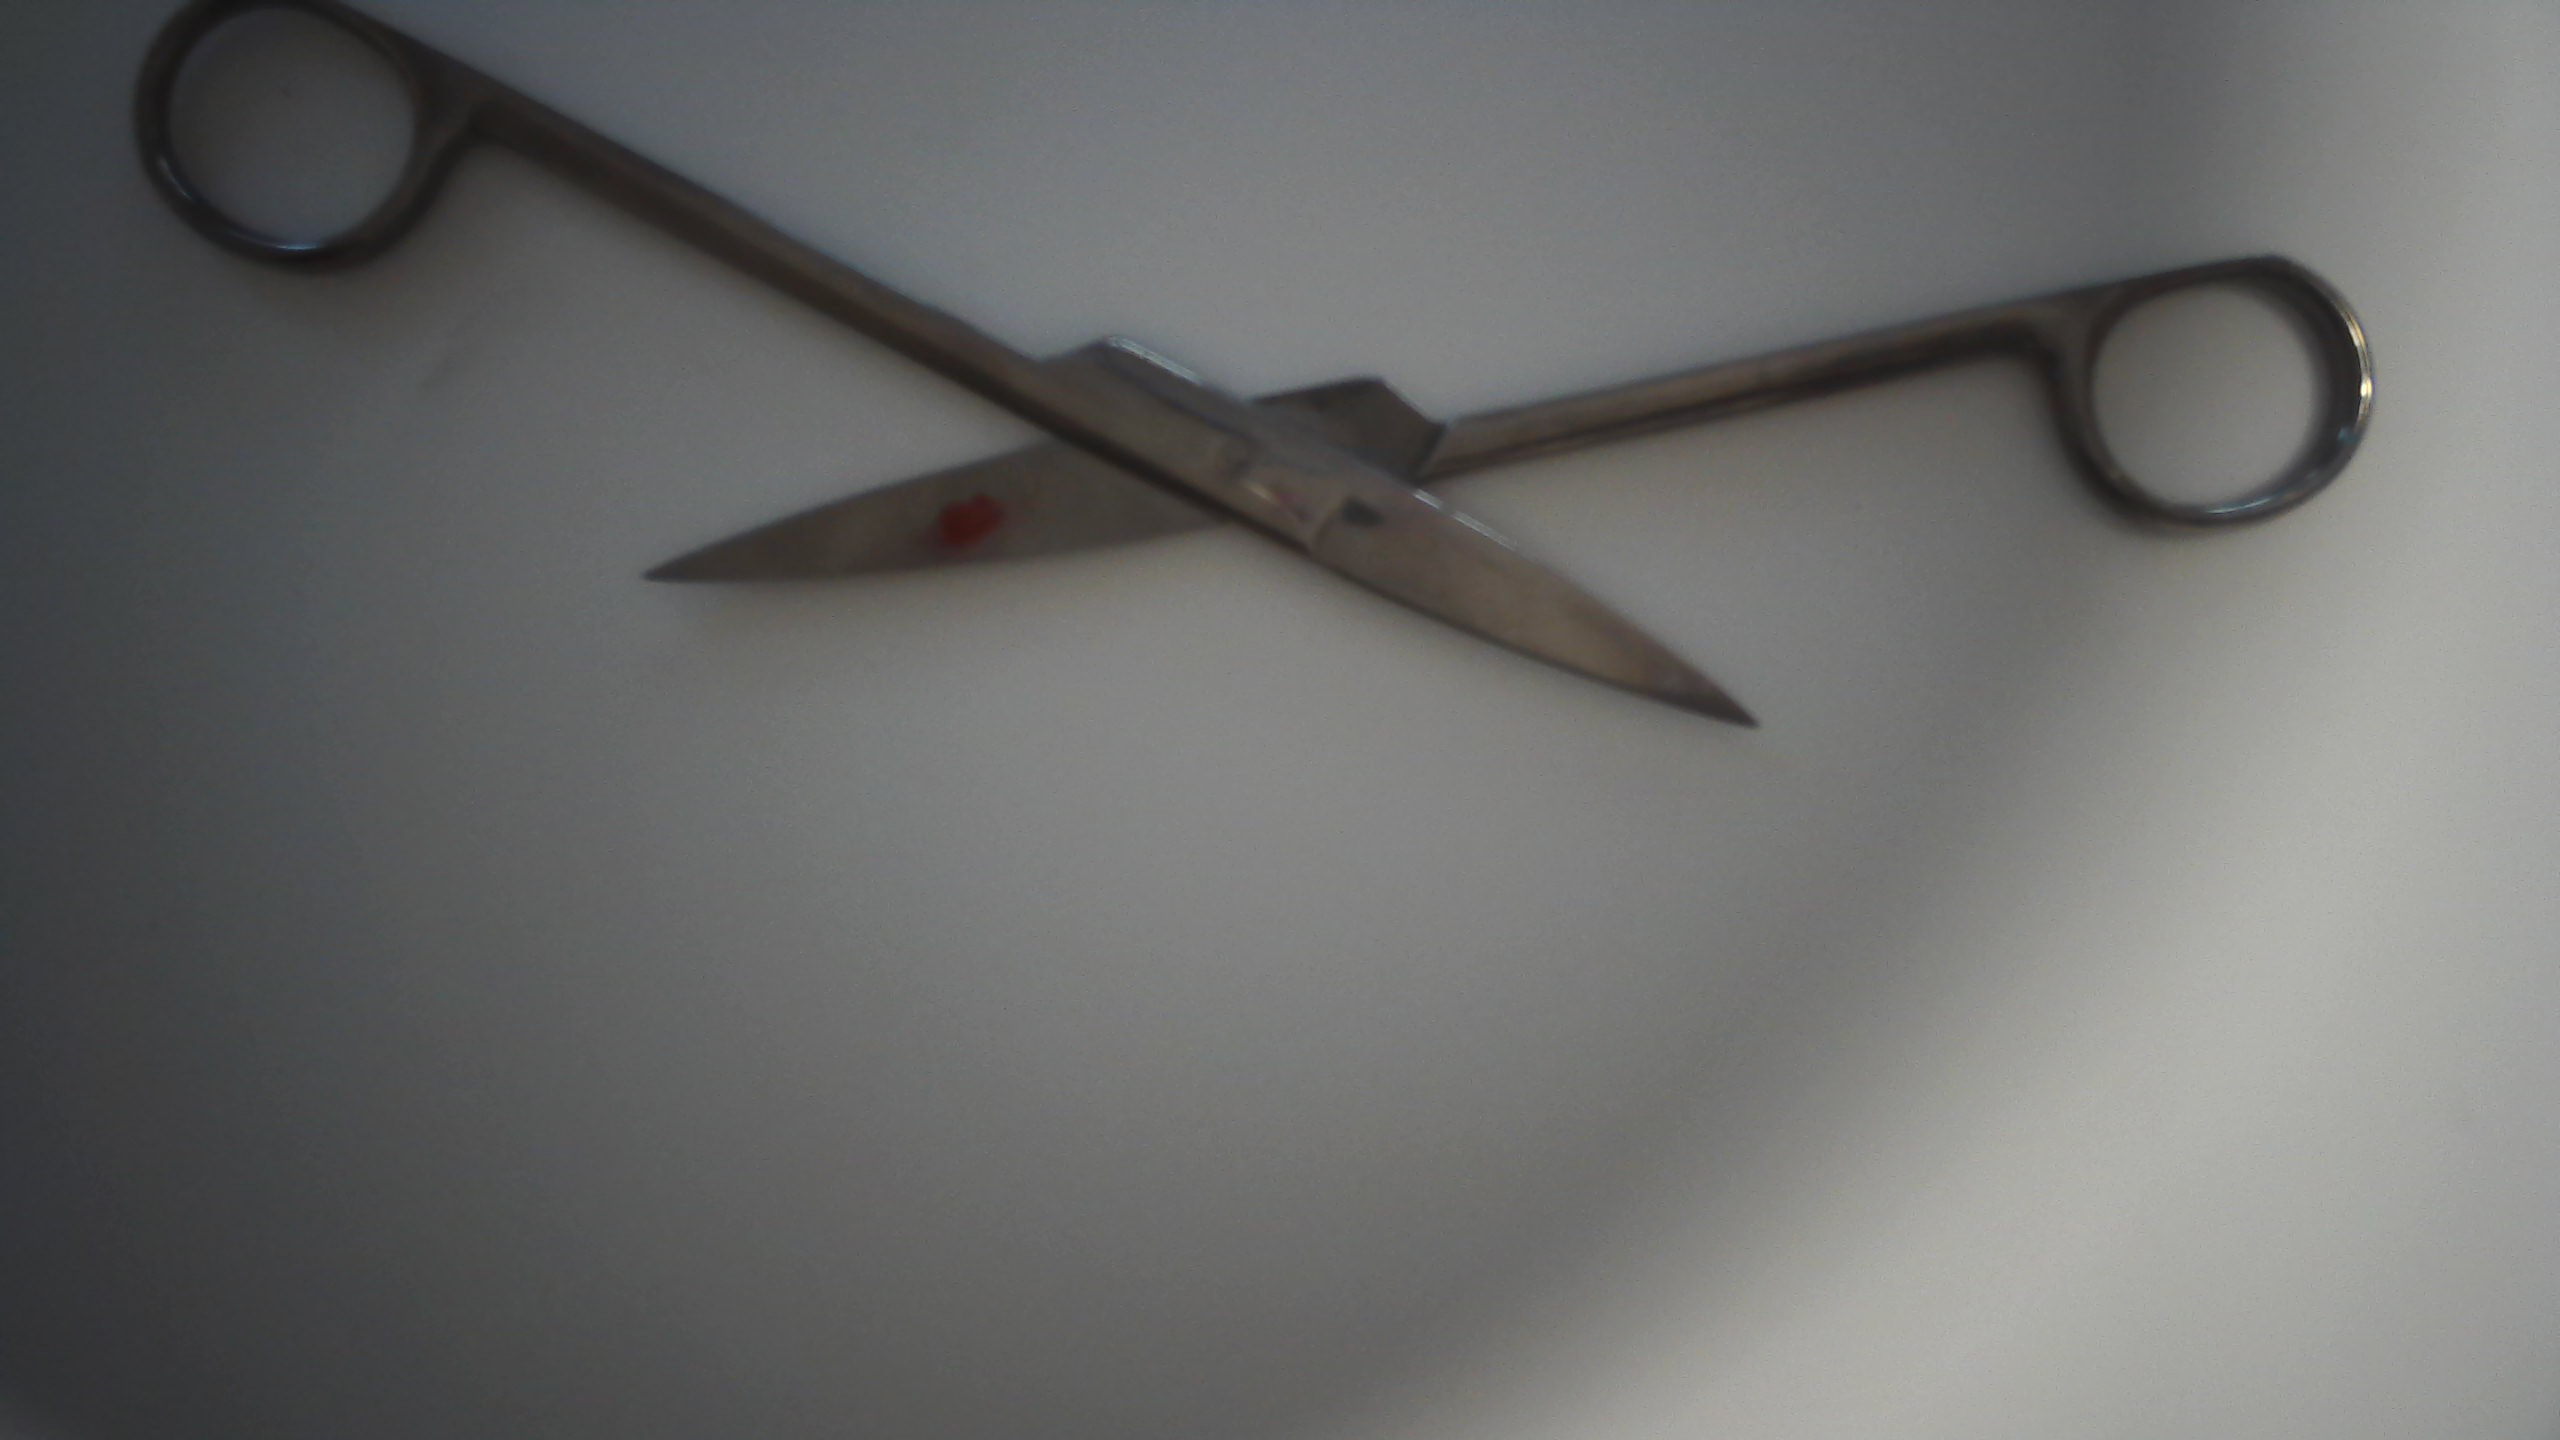Stain: (916, 485, 1029, 557)
